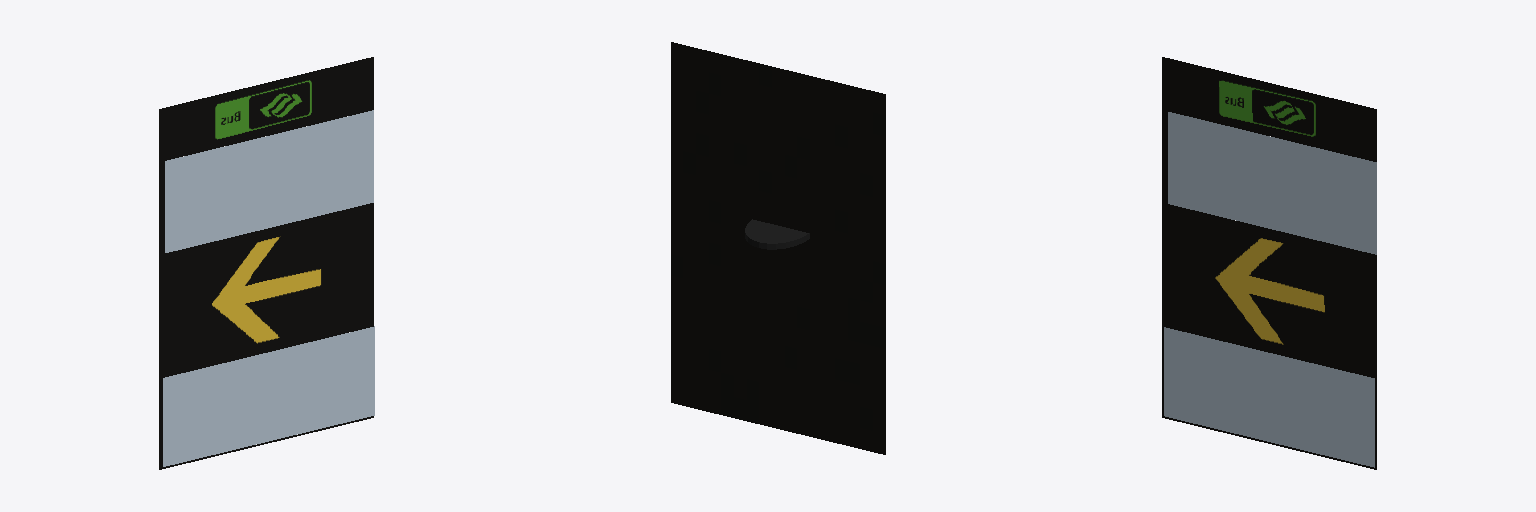
3 views of the same model, side by side, from view 1: azimuth 30°, elevation 25°; view 2: azimuth 150°, elevation 25°; view 3: azimuth 330°, elevation 25° (orthographic).
Parts seen in each view (by area): view 1: Mesh1 Group1 Model, Mesh3 Group2 Model, Mesh5 Group3 Model; view 2: Mesh1 Group1 Model, Mesh7 Component_16_1 Model; view 3: Mesh1 Group1 Model, Mesh3 Group2 Model, Mesh5 Group3 Model.
Boxes of the visible parts, <box> form: Mesh1 Group1 Model: <box>159,57,373,469</box>; Mesh3 Group2 Model: <box>165,110,373,252</box>; Mesh5 Group3 Model: <box>163,326,374,466</box>; Mesh1 Group1 Model: <box>671,42,885,454</box>; Mesh7 Component_16_1 Model: <box>745,219,809,249</box>; Mesh1 Group1 Model: <box>1162,57,1376,469</box>; Mesh3 Group2 Model: <box>1168,112,1376,254</box>; Mesh5 Group3 Model: <box>1164,327,1374,467</box>.
Size of the model in its own units: 1.03 by 1.65 by 0.1973.
Materials: 9 (4 with a texture image).